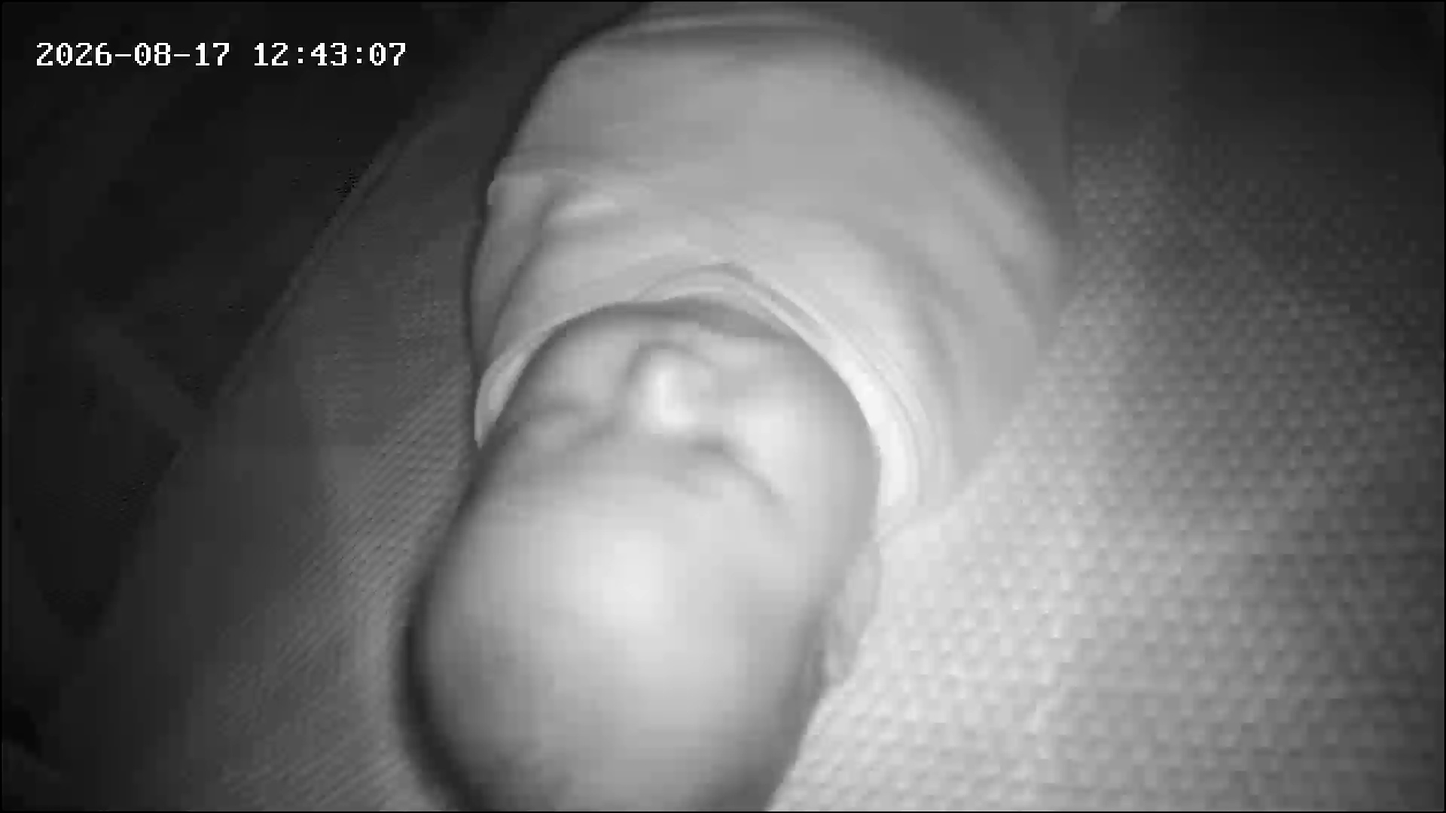baby: (395, 2, 1108, 810)
baby_face: (398, 276, 900, 808)
